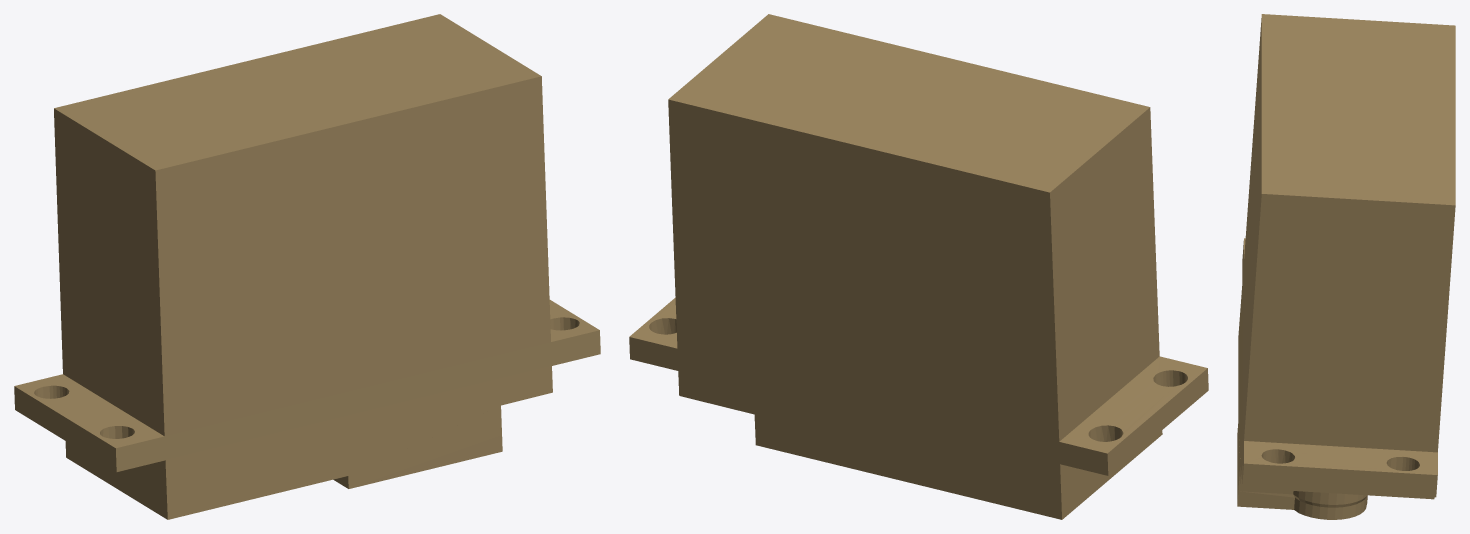
The model's file is left_shoulder_x_link_visual_4.obj.balanced.glb.
3 renders of one model, left to right at view 1: azimuth 30°, elevation 25°; view 2: azimuth 150°, elevation 25°; view 3: azimuth 270°, elevation 25°, orthographic. The views are drawn at different scales.
Bounding box in the file's own units: 0.7755 × 0.5533 × 0.3176.
